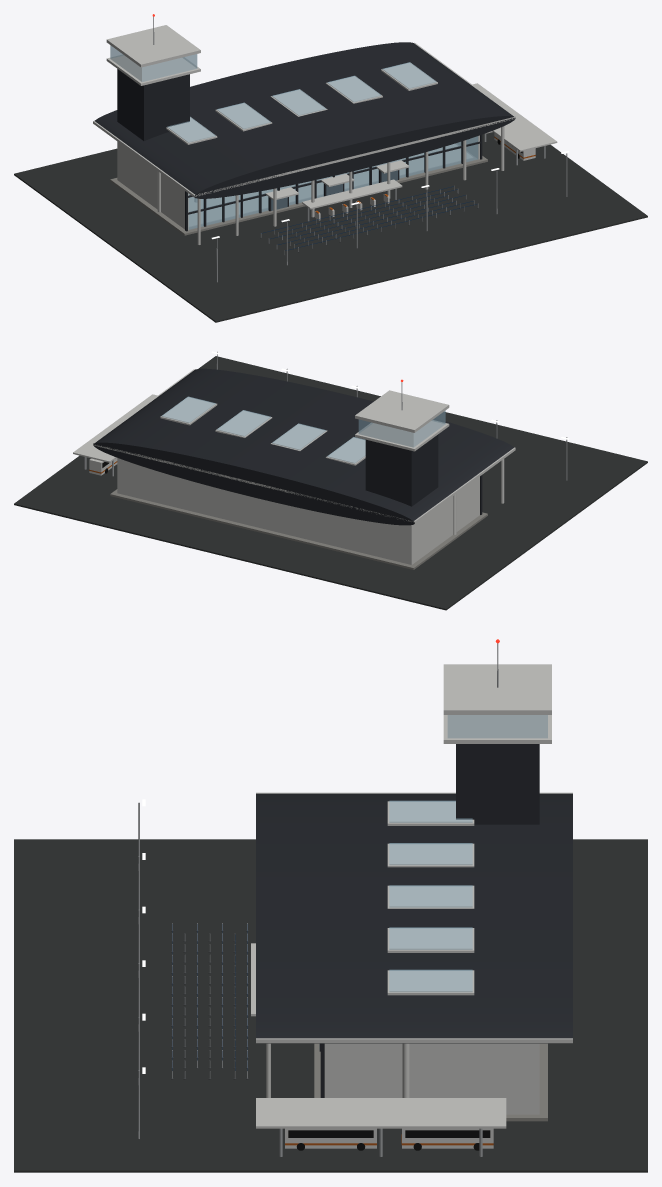
File: EA04_passenger_terminal.glb
3 renders of one model, top to bottom at view 1: azimuth 30°, elevation 25°; view 2: azimuth 150°, elevation 25°; view 3: azimuth 270°, elevation 25°, orthographic. The views are drawn at different scales.
Visible parts, largest first — view 1: apron, glass_front, hall_floor, stanchion; view 2: apron, glass_front; view 3: apron, glass_front, stanchion.
Part boxes in pixels (x1,y1,x2,y2): apron: [14, 25, 647, 322]; glass_front: [110, 45, 478, 229]; hall_floor: [189, 144, 473, 226]; stanchion: [153, 16, 567, 282]; apron: [14, 356, 647, 610]; glass_front: [161, 396, 445, 463]; apron: [14, 664, 647, 1172]; glass_front: [319, 715, 547, 1049]; stanchion: [138, 643, 498, 1156].
Bounding box in the file's own units: 94 × 36.05 × 76.01.
